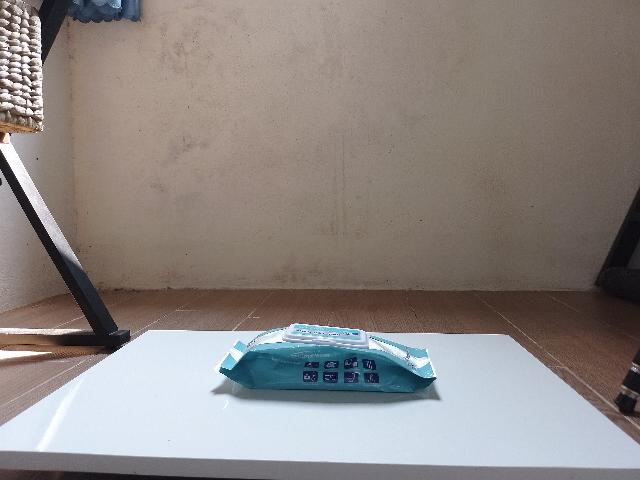Let-green_alcohol_wipes: (217, 324, 437, 394)
